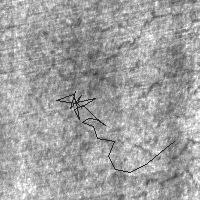crazing: (56, 91, 174, 172), (90, 10, 179, 101), (59, 133, 198, 186)
